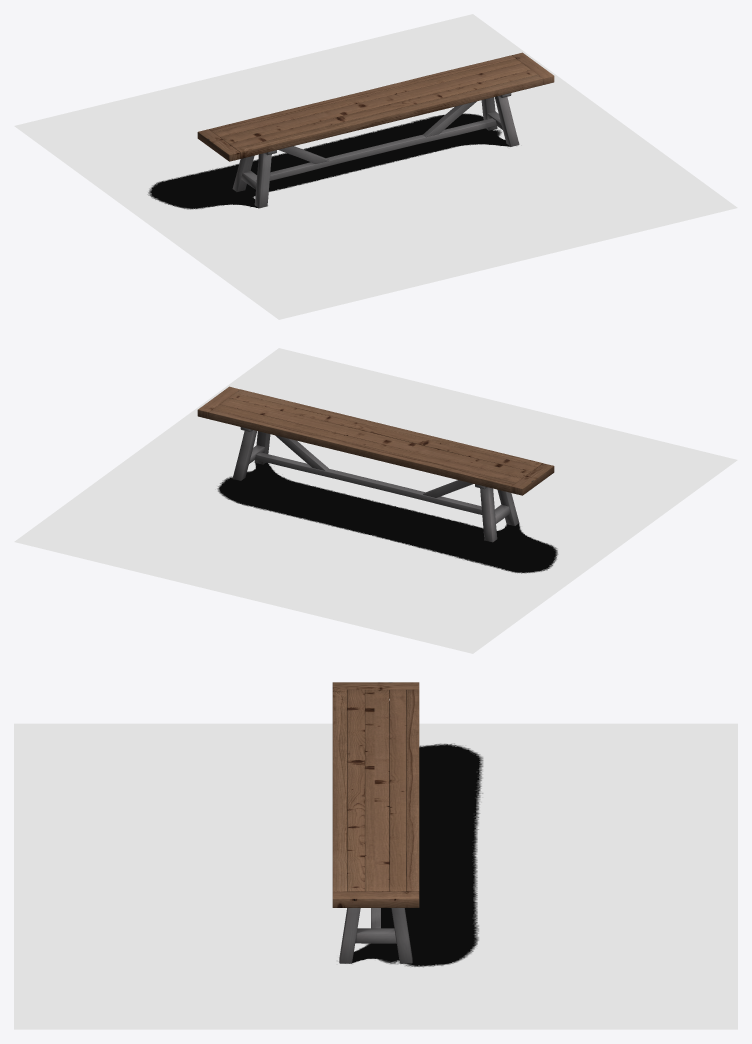
The picture shows the model from 3 angles, top to bottom: view 1: azimuth 30°, elevation 25°; view 2: azimuth 150°, elevation 25°; view 3: azimuth 270°, elevation 25°; orthographic projection. The views are drawn at different scales.
Parts seen in each view (by area): view 1: FLOOR, PINE; view 2: FLOOR, PINE; view 3: FLOOR, PINE.
Boxes of the visible parts, x1,y1,x2,y2 form: FLOOR: (14, 14, 737, 319); PINE: (197, 52, 554, 208); FLOOR: (14, 348, 737, 653); PINE: (197, 386, 554, 542); FLOOR: (14, 723, 737, 1029); PINE: (332, 682, 419, 963).
Size of the model in its own units: 334 by 44.19 by 334.
2 materials, 2 textured.
